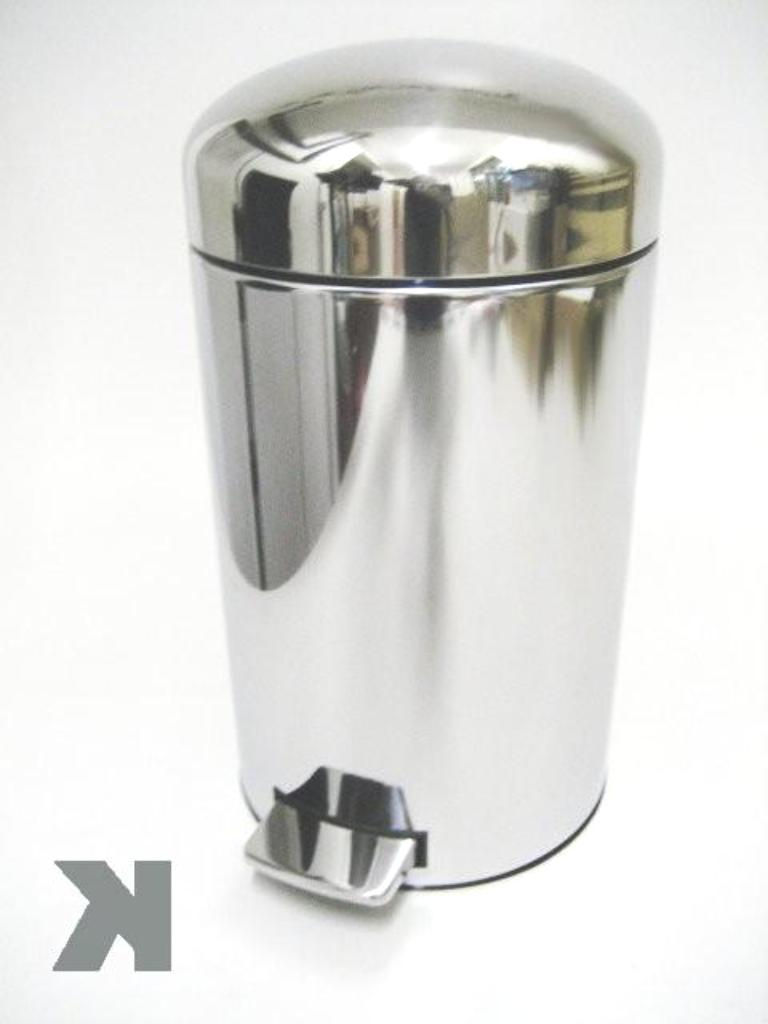dustbin: (181, 35, 668, 913)
